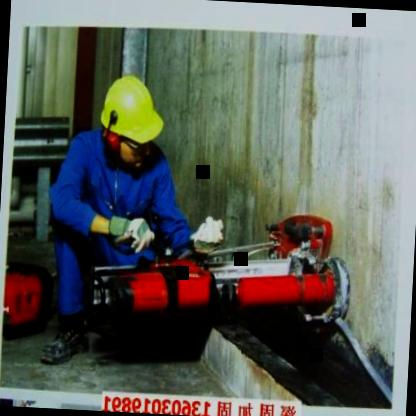helmet: (93, 67, 169, 175)
